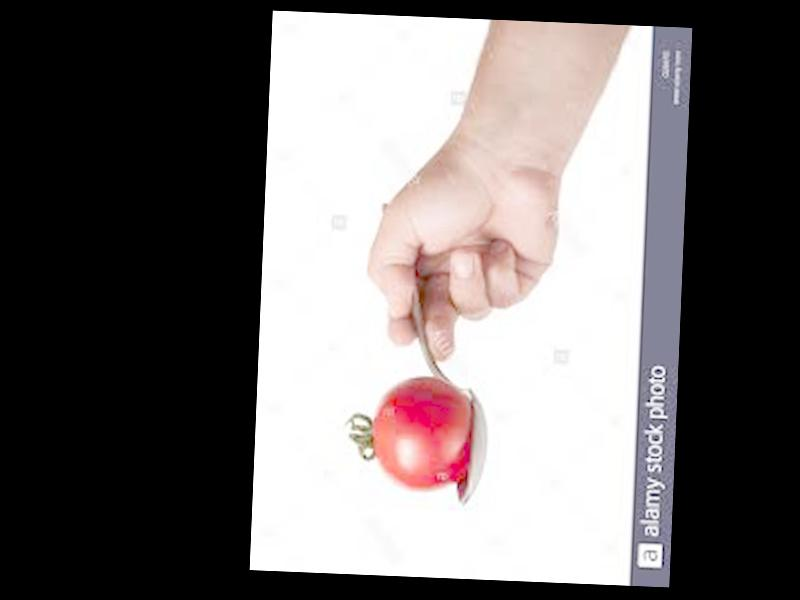Tomato: (369, 373, 472, 491)
